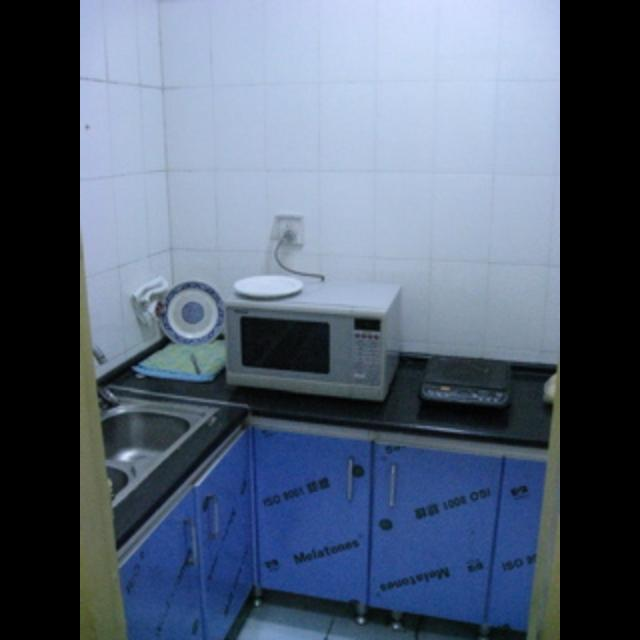Microwave: (228, 281, 404, 402)
